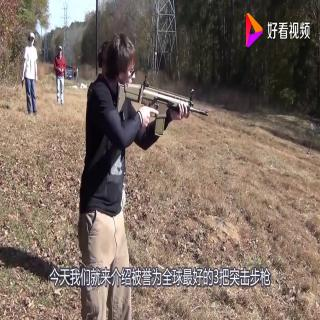gun: (112, 81, 215, 141)
